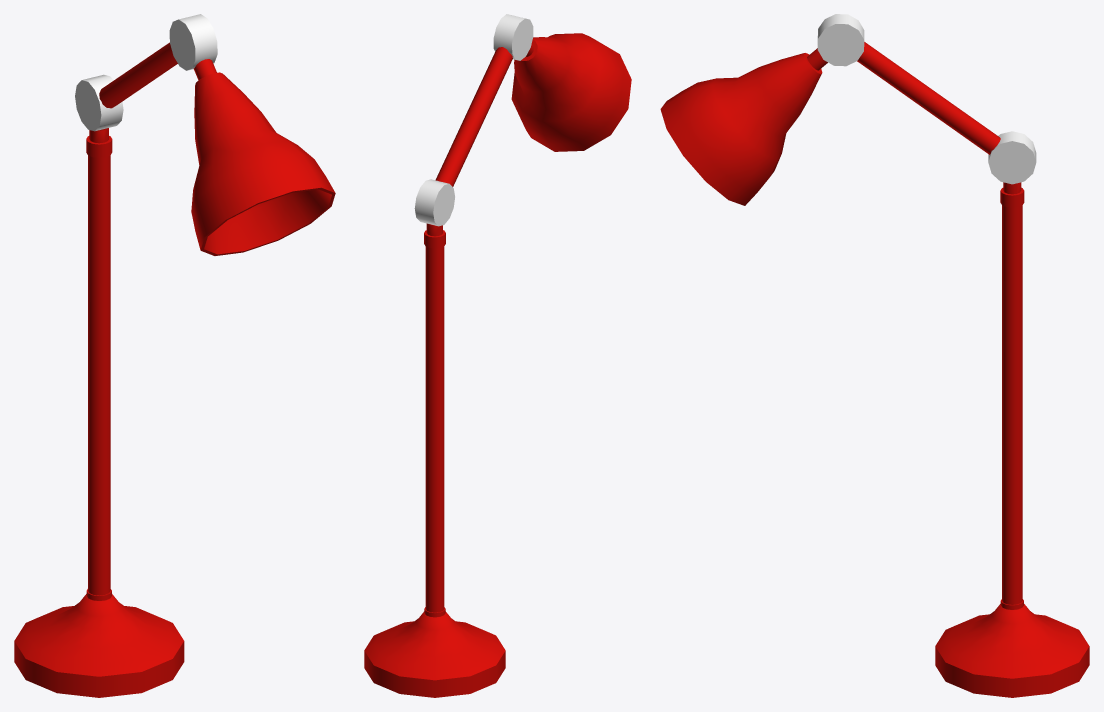
File: red_desk_lamp.obj
3 renders of one model, left to right at view 1: azimuth 30°, elevation 25°; view 2: azimuth 150°, elevation 25°; view 3: azimuth 270°, elevation 25°, orthographic. The views are drawn at different scales.
Parts seen in each view (by area): view 1: red_desk_lamp; view 2: red_desk_lamp; view 3: red_desk_lamp.
Boxes of the visible parts, bbox=[...] form: red_desk_lamp: bbox=[14, 14, 335, 697]; red_desk_lamp: bbox=[364, 14, 631, 697]; red_desk_lamp: bbox=[660, 14, 1089, 697].
Bounding box in the file's own units: 0.1122 × 0.5188 × 0.312.
